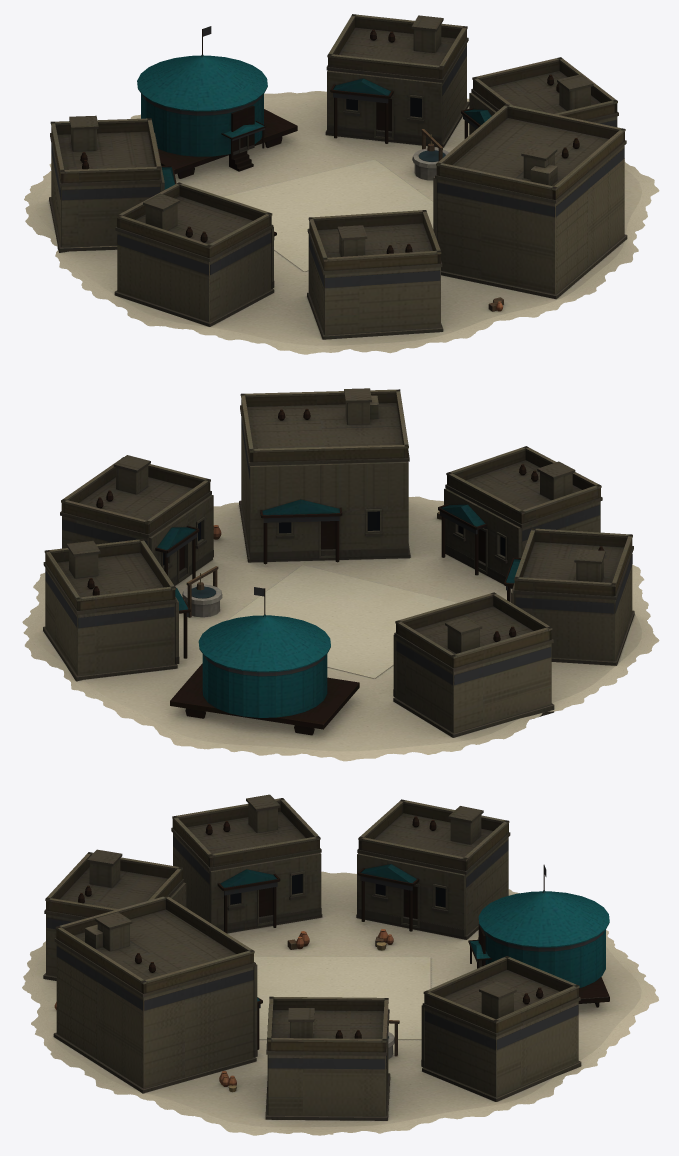
File: kingdoms-town-small-b-steppe.glb
3 views of the same model, one above another, from view 1: azimuth 30°, elevation 25°; view 2: azimuth 150°, elevation 25°; view 3: azimuth 270°, elevation 25° (orthographic).
Parts seen in each view (by area): view 1: LOD0; view 2: LOD0; view 3: LOD0.
Part boxes in pixels (box(x1,y1,x2,y2)): LOD0: box(24, 14, 659, 354); LOD0: box(22, 388, 659, 761); LOD0: box(22, 794, 658, 1135).
Size of what is drawn, in the model's own units: 3.95 by 0.8683 by 4.01.
Materials: 3 (3 with a texture image).
